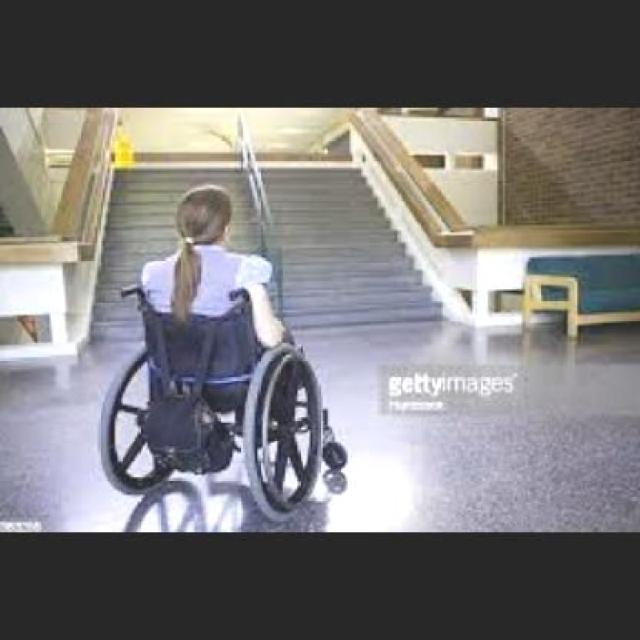wheelchairs: (97, 279, 344, 521)
